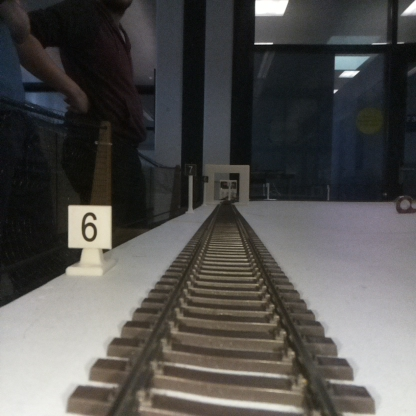black-info-7: (186, 163, 195, 210)
white-stop-6: (67, 206, 111, 273)
